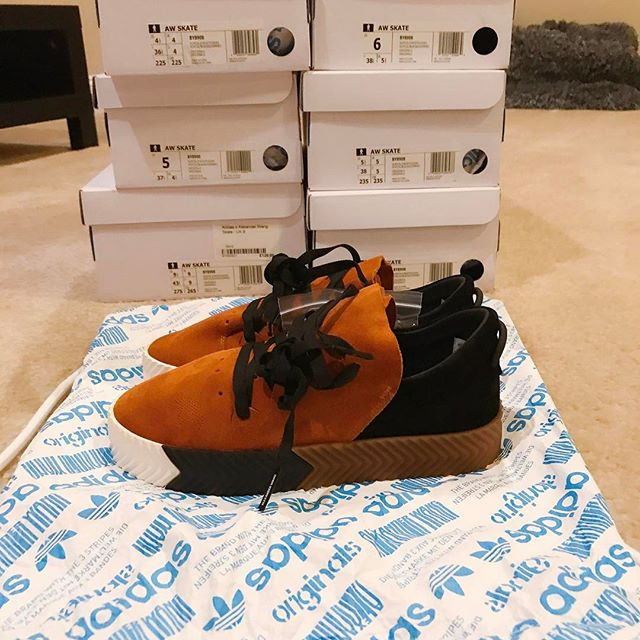adidas AW Skate Sand: (98, 303, 537, 508)
